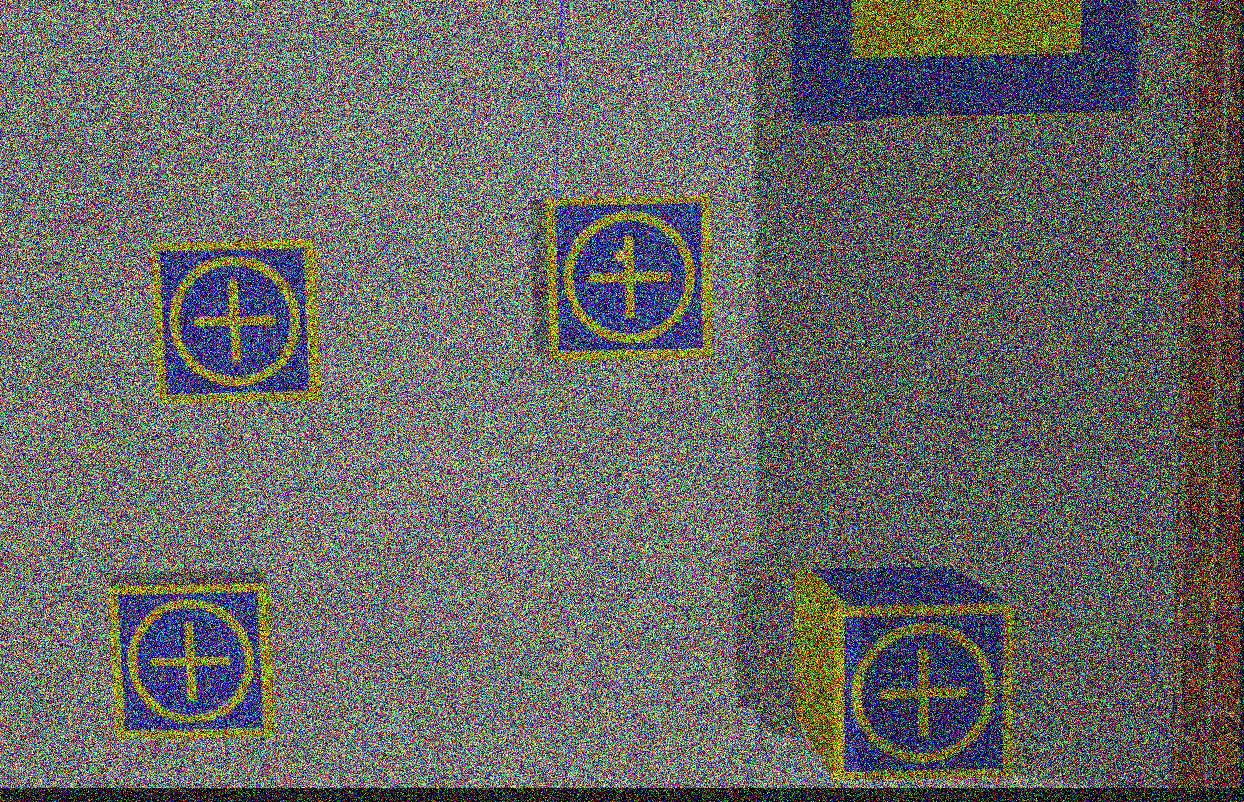large_base: (793, 1, 1139, 125)
small_base: (832, 599, 1021, 783), (146, 236, 321, 405), (547, 197, 712, 365), (109, 581, 278, 739)
